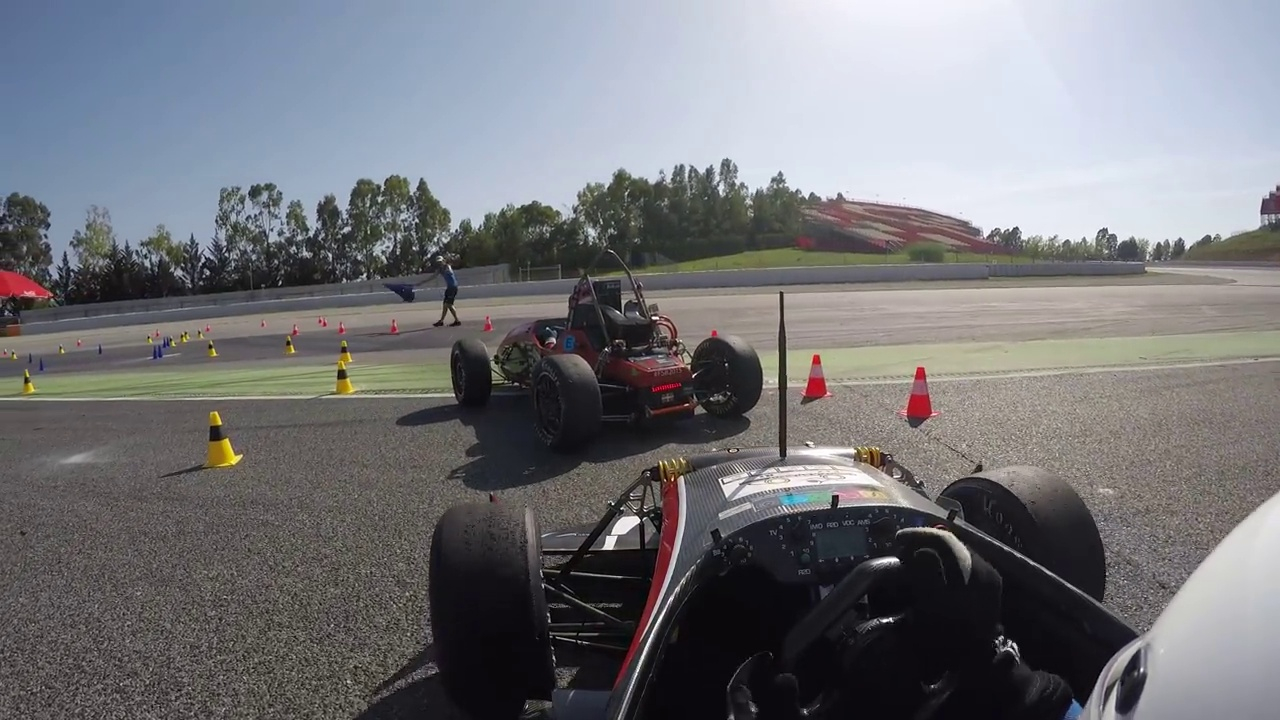Cone: (202, 409, 245, 472), (903, 367, 936, 418), (800, 353, 830, 399), (332, 361, 357, 398), (336, 338, 356, 367)
